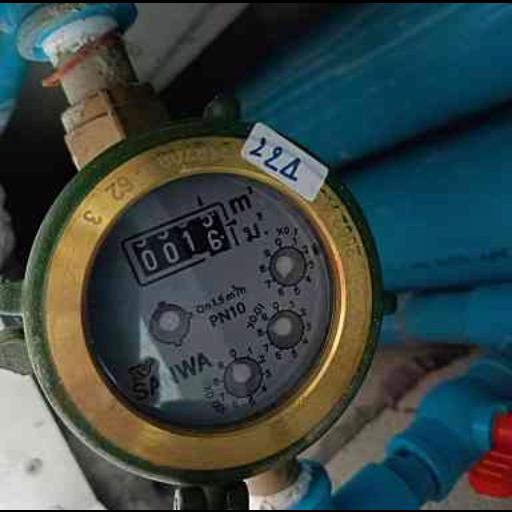0: (130, 233, 166, 277), (151, 226, 187, 269)
1: (171, 216, 209, 260)
6: (195, 208, 233, 257)
border_water_meter_number: (119, 198, 241, 289)
